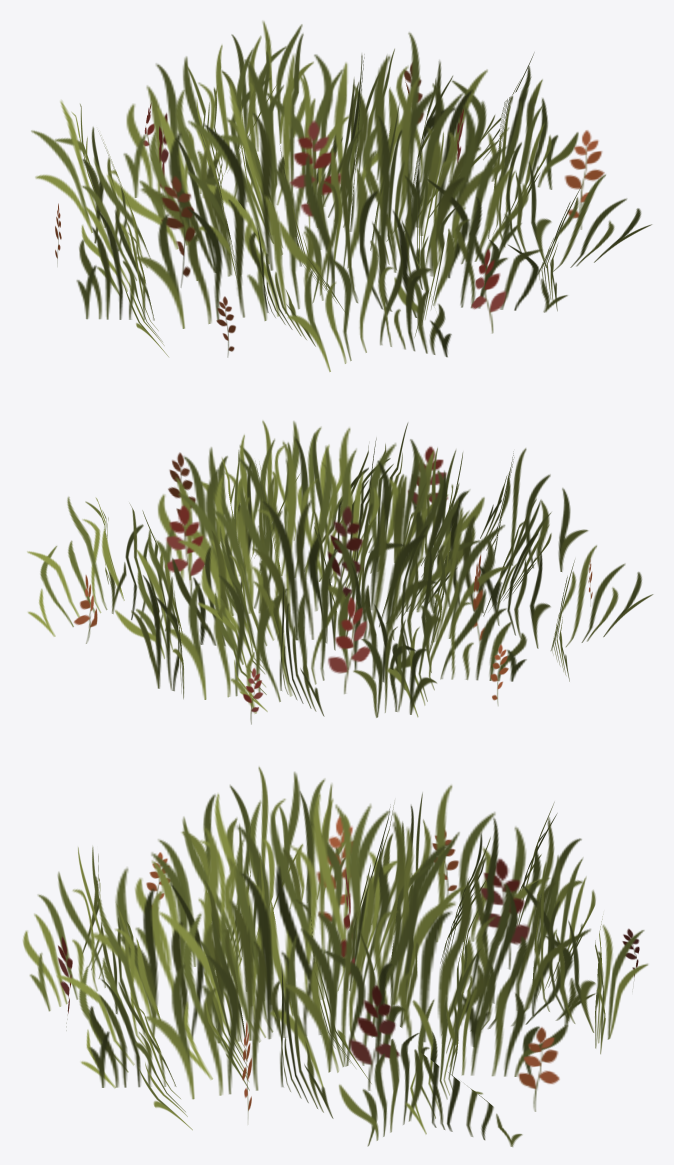
The model's file is Forest_Grass_4.glb.
3 renders of one model, top to bottom at view 1: azimuth 30°, elevation 25°; view 2: azimuth 150°, elevation 25°; view 3: azimuth 270°, elevation 25°, orthographic. The views are drawn at different scales.
Visible parts, largest first — view 1: Forest_Grass_4; view 2: Forest_Grass_4; view 3: Forest_Grass_4.
Part boxes in pixels (left/top/right/bottom): Forest_Grass_4: left=31, top=21, right=651, bottom=371; Forest_Grass_4: left=27, top=420, right=653, bottom=724; Forest_Grass_4: left=22, top=766, right=648, bottom=1146.
Size of the model in its own units: 1.62 by 0.5699 by 1.54.
1 material, 1 textured.
